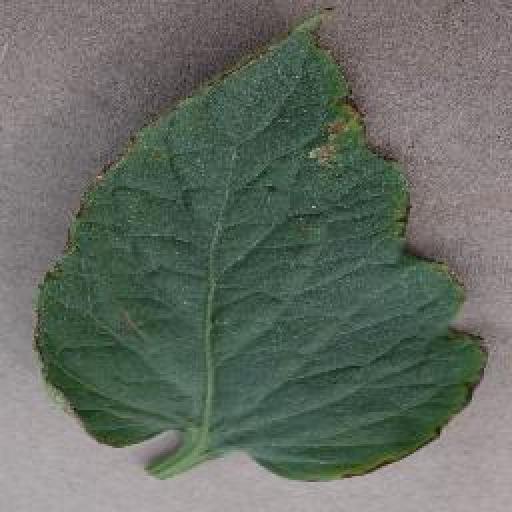Bacterial Spot: (30, 1, 494, 484)
